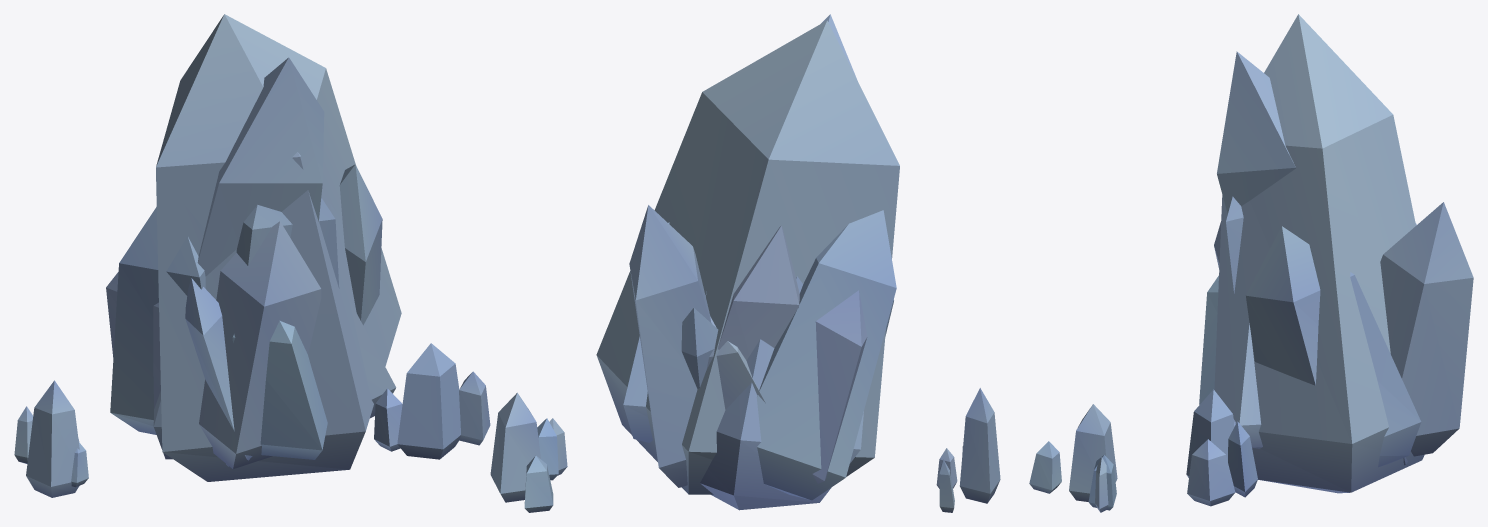
File: crystal_cluster_v1.glb
3 renders of one model, left to right at view 1: azimuth 30°, elevation 25°; view 2: azimuth 150°, elevation 25°; view 3: azimuth 270°, elevation 25°, orthographic. The views are drawn at different scales.
Parts seen in each view (by area): view 1: crystal_cluster_v1.glb; view 2: crystal_cluster_v1.glb; view 3: crystal_cluster_v1.glb.
Part boxes in pixels (x1,y1,x2,y2): crystal_cluster_v1.glb: (14,14,567,512); crystal_cluster_v1.glb: (596,14,1000,512); crystal_cluster_v1.glb: (1029,14,1473,512).
Bounding box in the file's own units: 0.9051 × 1 × 0.9184.
